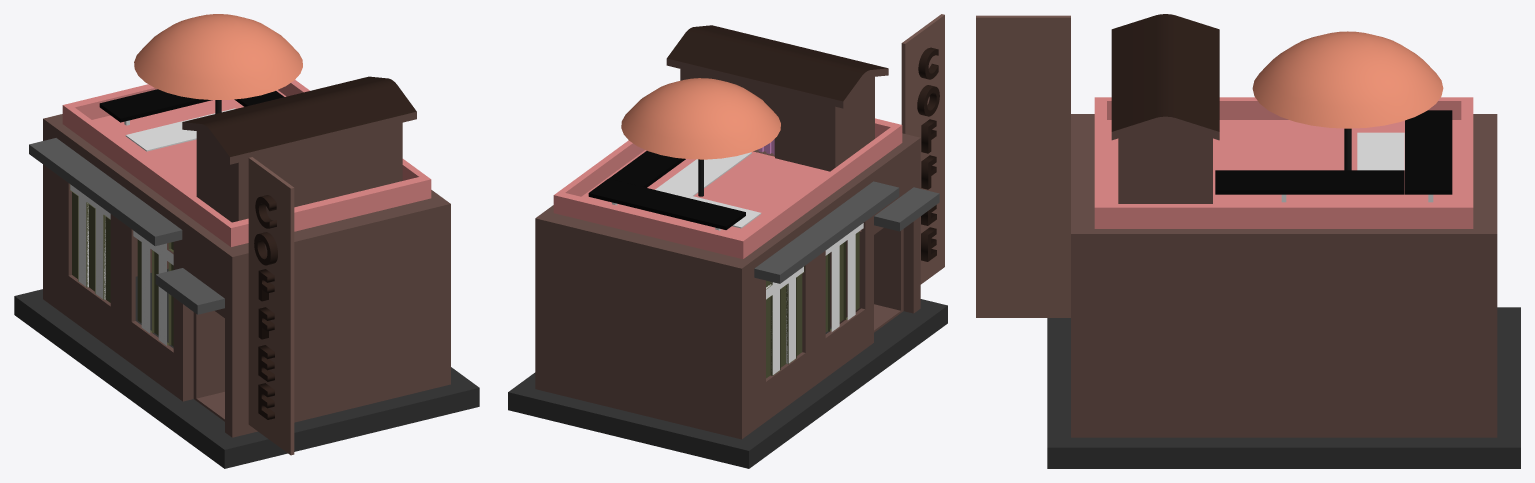
Rendered from CoffeeHouse 1.fbx.
The picture shows the model from 3 angles, left to right: view 1: azimuth 30°, elevation 25°; view 2: azimuth 150°, elevation 25°; view 3: azimuth 270°, elevation 25°; orthographic projection. The views are drawn at different scales.
Parts seen in each view (by area): view 1: Cube.001, Cube, Cube.002, Cube.003, Sphere, Cube.014, Cube.018, Cube.015, Cube.017, Cube.013, Text, Cube.005 (+2 smaller); view 2: Cube.001, Cube.002, Cube, Sphere, Cube.003, Cube.018, Cube.014, Cube.015, Cube.005, Cube.017, Cube.013, Text (+3 smaller); view 3: Cube.001, Cube.014, Cube.002, Cube, Sphere, Cube.018, Cube.003, Cube.006, Cube.005, Cube.011.
Part boxes in pixels (<box>): Cube.001: <box>43,114,450,437</box>; Cube: <box>14,268,479,468</box>; Cube.002: <box>62,80,431,246</box>; Cube.003: <box>182,111,416,222</box>; Sphere: <box>134,14,302,99</box>; Cube.014: <box>248,157,294,455</box>; Cube.018: <box>182,76,416,156</box>; Cube.015: <box>29,138,182,246</box>; Cube.017: <box>70,184,173,345</box>; Cube.013: <box>69,184,173,346</box>; Text: <box>254,195,277,419</box>; Cube.005: <box>99,89,212,122</box>; Cube.001: <box>535,133,920,439</box>; Cube.002: <box>553,118,902,259</box>; Cube: <box>508,299,947,468</box>; Sphere: <box>621,78,780,159</box>; Cube.003: <box>666,58,888,171</box>; Cube.018: <box>667,25,887,101</box>; Cube.014: <box>901,14,944,284</box>; Cube.015: <box>754,181,899,283</box>; Cube.005: <box>588,178,745,229</box>; Cube.017: <box>766,223,863,374</box>; Cube.013: <box>766,231,859,378</box>; Text: <box>917,47,939,261</box>; Cube.001: <box>1071,114,1497,437</box>; Cube.014: <box>976,15,1070,317</box>; Cube.002: <box>1094,97,1473,228</box>; Cube: <box>1047,307,1520,468</box>; Sphere: <box>1252,31,1443,128</box>; Cube.018: <box>1111,14,1219,131</box>; Cube.003: <box>1111,116,1219,203</box>; Cube.006: <box>1215,170,1404,194</box>; Cube.005: <box>1405,110,1452,194</box>; Cube.011: <box>1357,132,1404,170</box>.
Size of the model in its own units: 725 by 831 by 1150.
